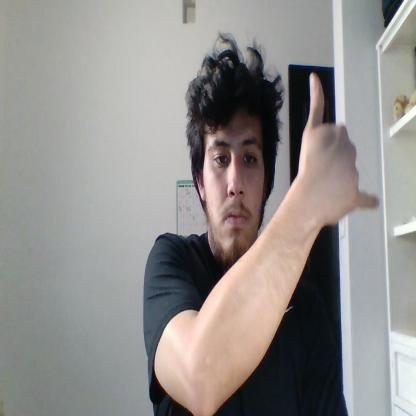Y: (299, 73, 379, 224)
